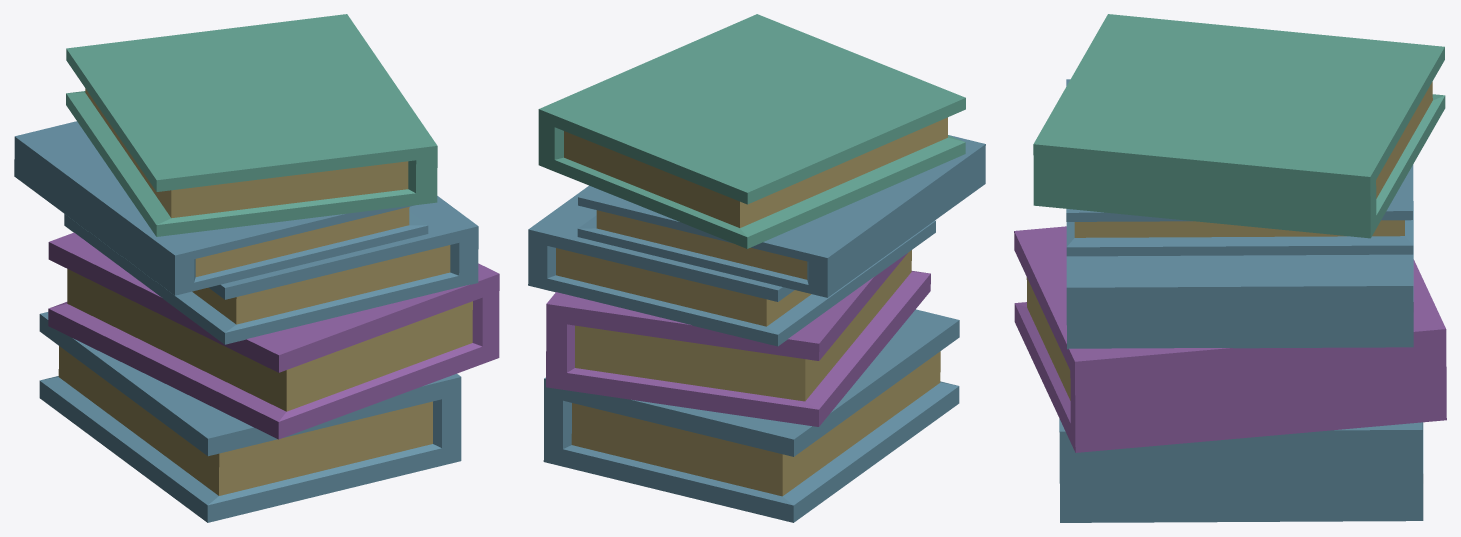
The model's file is bookstack2.fbx.
3 renders of one model, left to right at view 1: azimuth 30°, elevation 25°; view 2: azimuth 150°, elevation 25°; view 3: azimuth 270°, elevation 25°, orthographic. The views are drawn at different scales.
Visible parts, largest first — view 1: book_pile2; view 2: book_pile2; view 3: book_pile2.
Boxes of the visible parts, x1,y1,x2,y2 form: book_pile2: (14,14,499,522); book_pile2: (528,14,985,522); book_pile2: (1014,14,1446,522).
Bounding box in the file's own units: 16.17 × 15.77 × 17.08.
